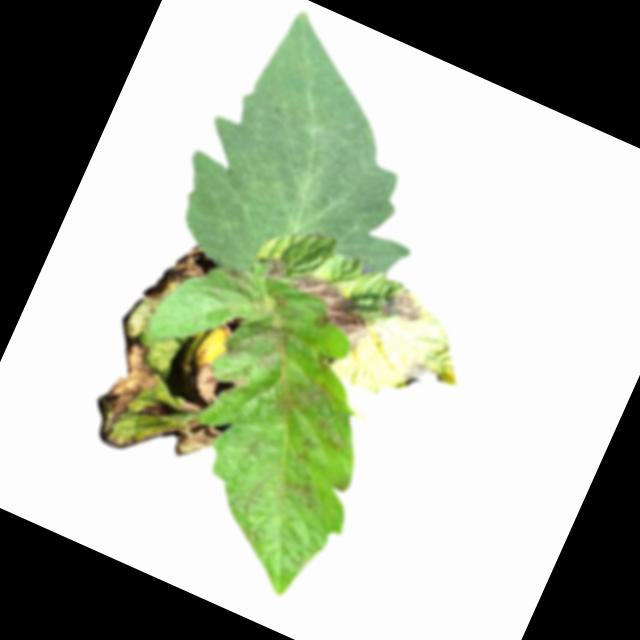Late_blight: (80, 334, 174, 456), (202, 273, 309, 380), (273, 267, 379, 353), (140, 230, 223, 318), (264, 361, 336, 432), (171, 348, 233, 418), (166, 407, 225, 468), (398, 353, 450, 400), (378, 285, 430, 330), (276, 471, 328, 515), (257, 249, 293, 286), (139, 396, 174, 427), (228, 371, 249, 390)
